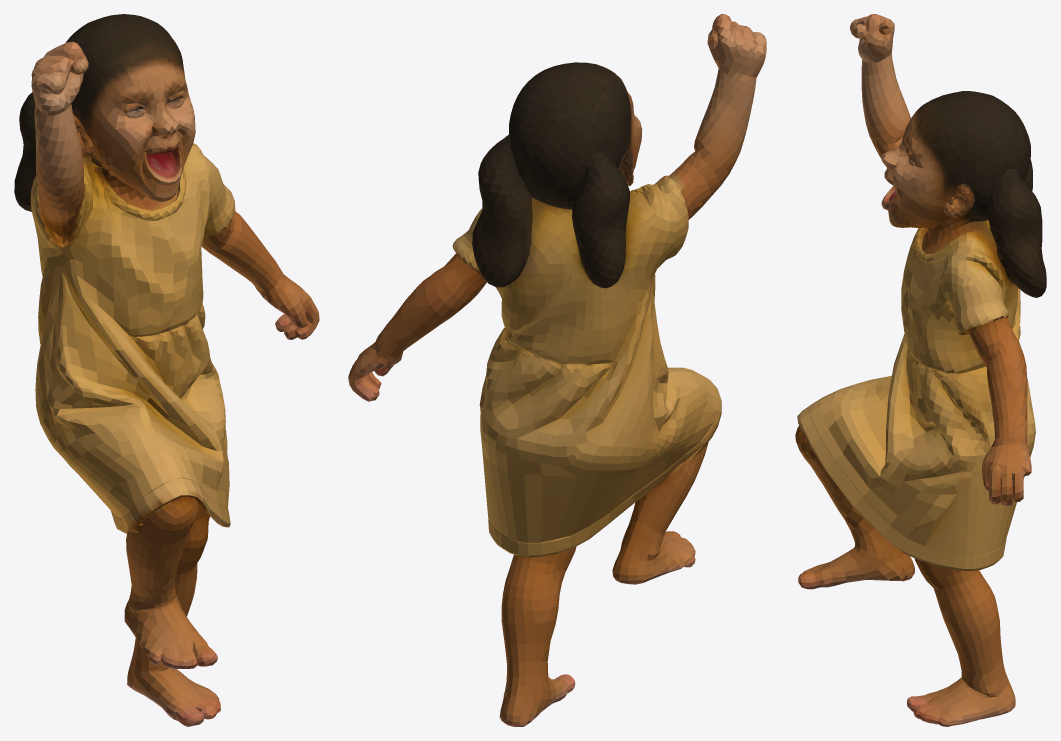
3 renders of one model, left to right at view 1: azimuth 30°, elevation 25°; view 2: azimuth 150°, elevation 25°; view 3: azimuth 270°, elevation 25°, orthographic. The views are drawn at different scales.
Visible parts, largest first — view 1: texture_pbr_v128; view 2: texture_pbr_v128; view 3: texture_pbr_v128.
Part boxes in pixels (<box>): texture_pbr_v128: <box>14,14,319,726</box>; texture_pbr_v128: <box>348,14,766,726</box>; texture_pbr_v128: <box>795,14,1046,726</box>.
Size of the model in its own units: 0.5642 by 1.11 by 0.397.
Materials: 1 (1 with a texture image).
